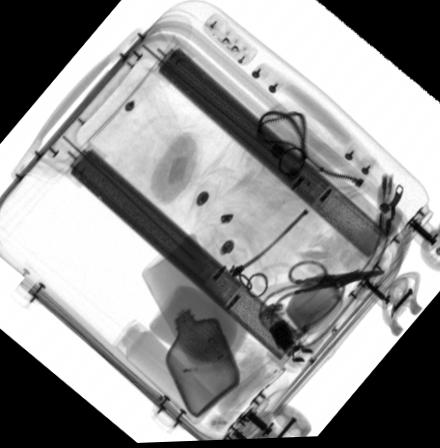Scissors: (249, 266, 386, 325)
